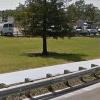Tree: (20, 2, 74, 57)
